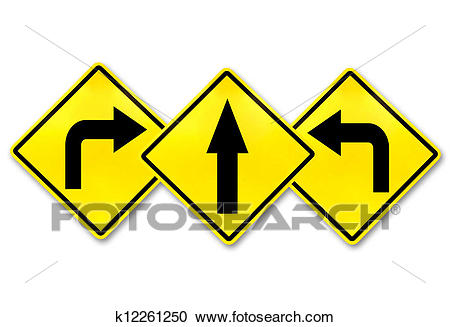left: (279, 67, 443, 243)
right: (7, 61, 181, 240)
